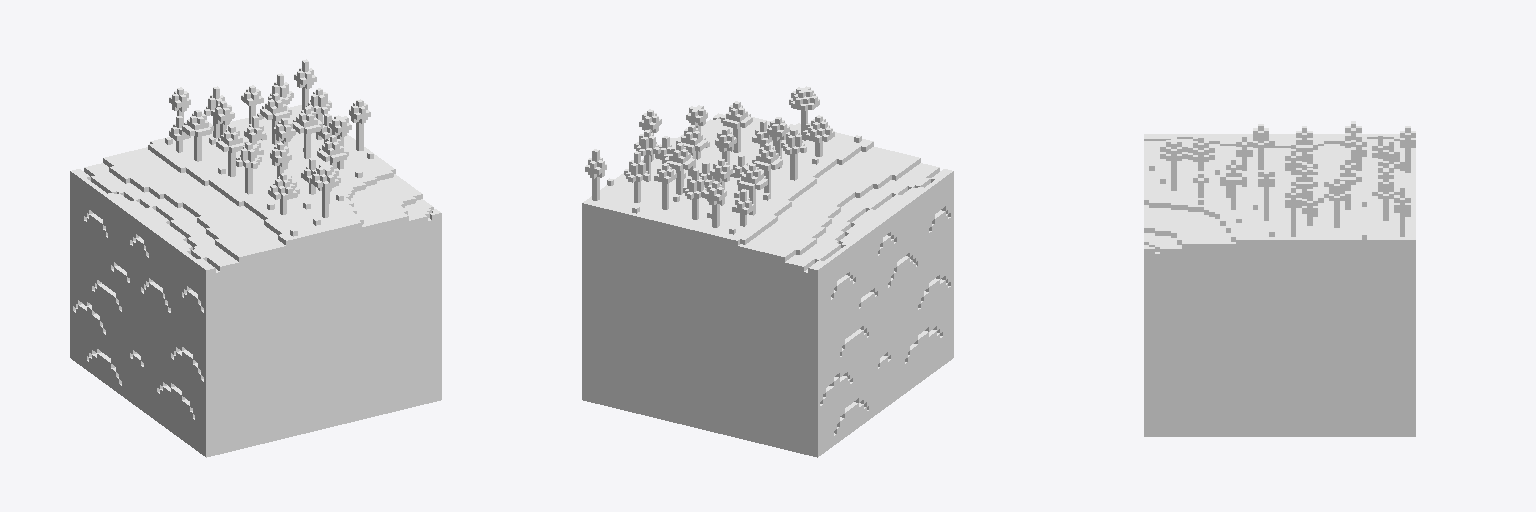
The model's file is wall1corner1side.obj.
3 views of the same model, side by side, from view 1: azimuth 30°, elevation 25°; view 2: azimuth 150°, elevation 25°; view 3: azimuth 270°, elevation 25° (orthographic).
Parts seen in each view (by area): view 1: object 1; view 2: object 1; view 3: object 1.
Part boxes in pixels (bbox=[...]): object 1: bbox=[70, 59, 441, 457]; object 1: bbox=[582, 86, 953, 457]; object 1: bbox=[1144, 121, 1415, 436].
Bounding box in the file's own units: 5 × 5 × 5.